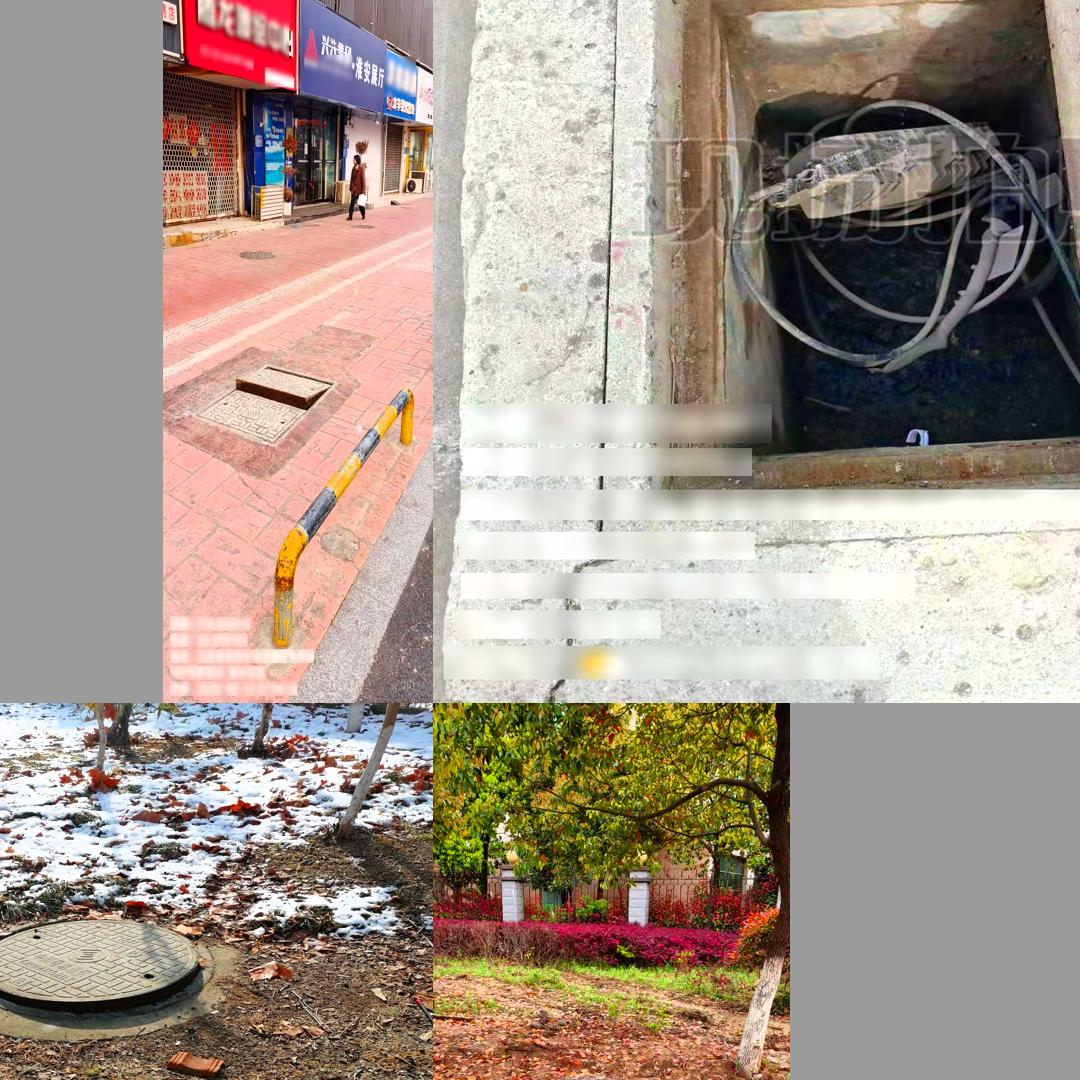uncovered: (609, 0, 1080, 545), (0, 910, 212, 1010), (194, 363, 335, 451), (508, 1057, 663, 1080)
